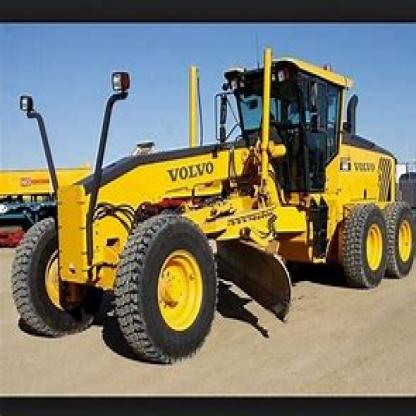bull_dozer/loader/grader: (3, 34, 413, 364)
